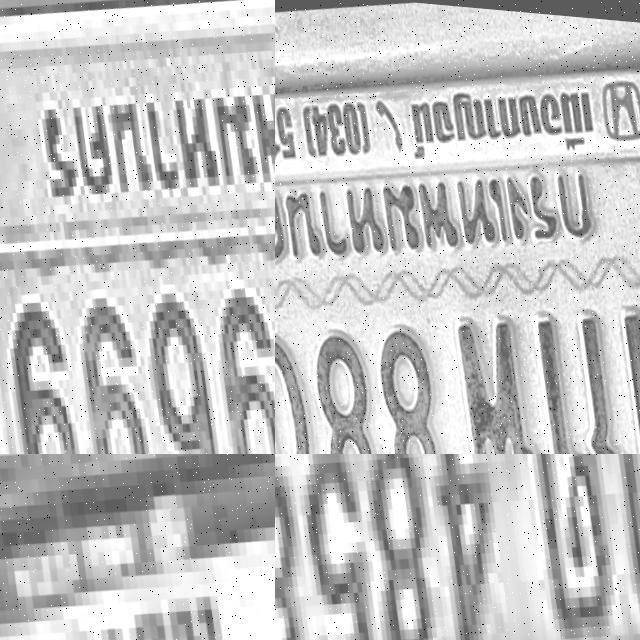license-plate: (275, 7, 640, 454), (0, 0, 275, 454), (275, 454, 640, 640), (0, 454, 275, 640)
